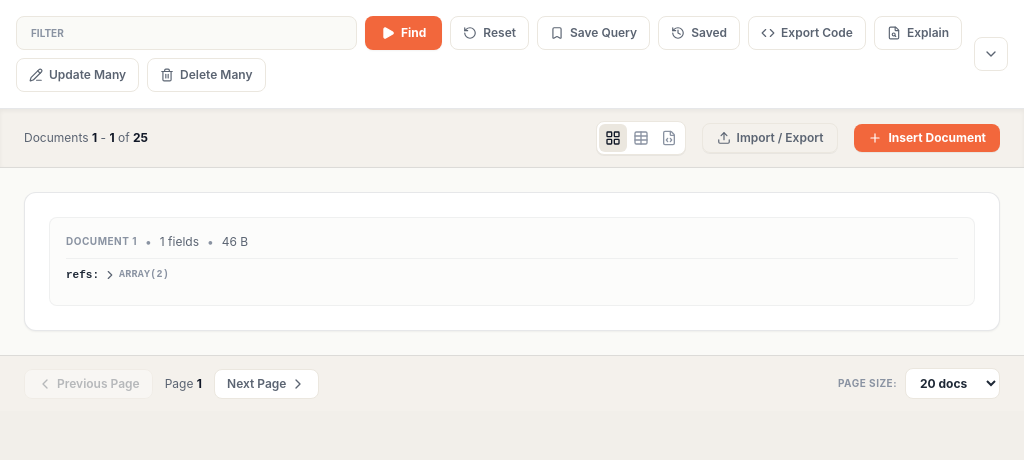
Test: DocumentExplorer – Tree view rendering › renders nested array items that are BSON objects ($oid inside array)
This screenshot has width=1024, height=460.
Click the button "Array(2)". click: (136, 275)
box: [103,267,169,283]
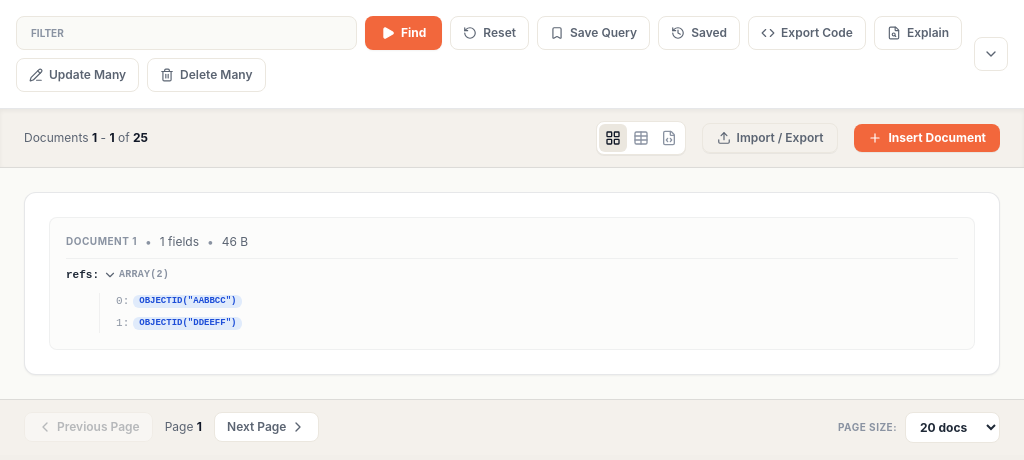
Result: the text "ObjectId(\"aabbcc\")" is shown at [133,295,242,308]
